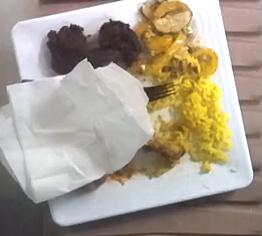beef: (47, 19, 141, 74)
rice: (154, 78, 232, 172)
vegetables: (137, 1, 218, 82)
